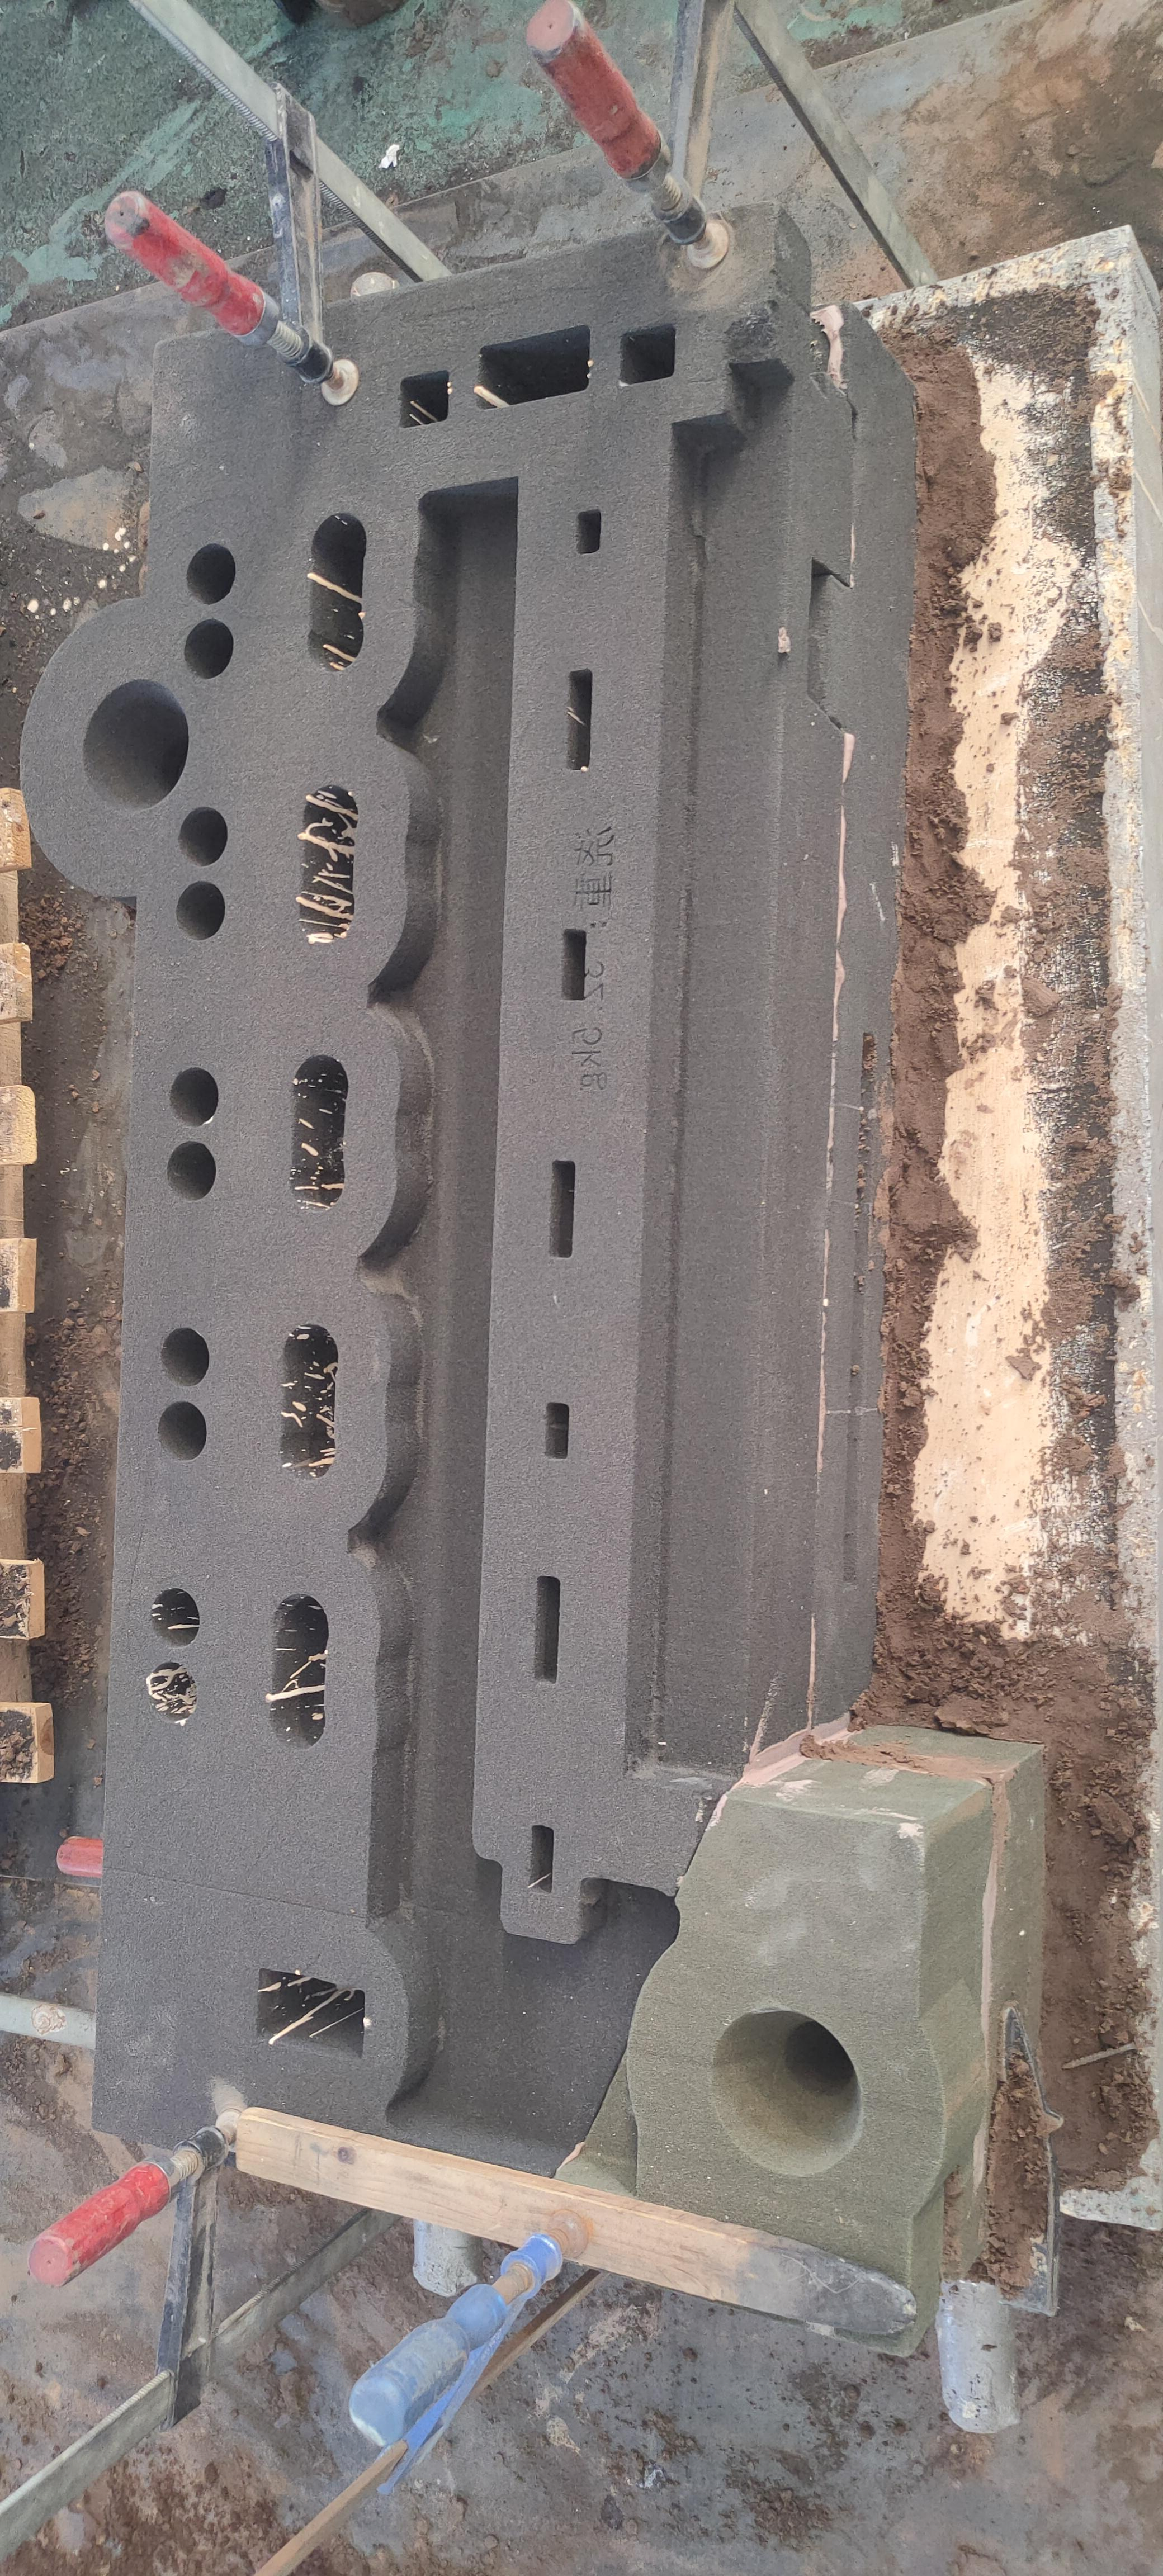pouring hole: (708, 2006, 862, 2175), (84, 678, 189, 812)
